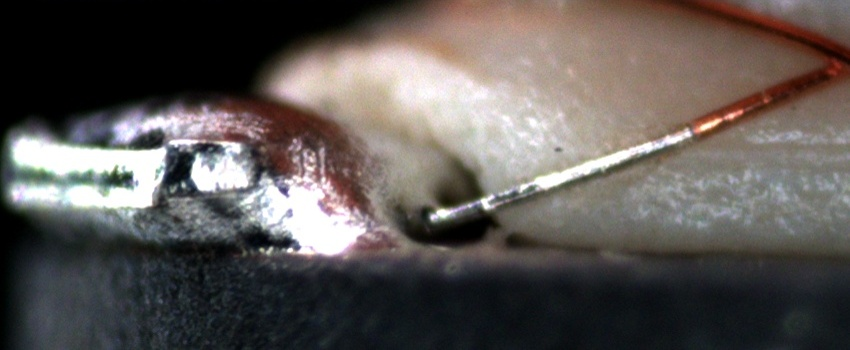CL: (807, 41, 850, 84)
DL: (642, 120, 850, 184)
TS: (431, 119, 696, 224)
